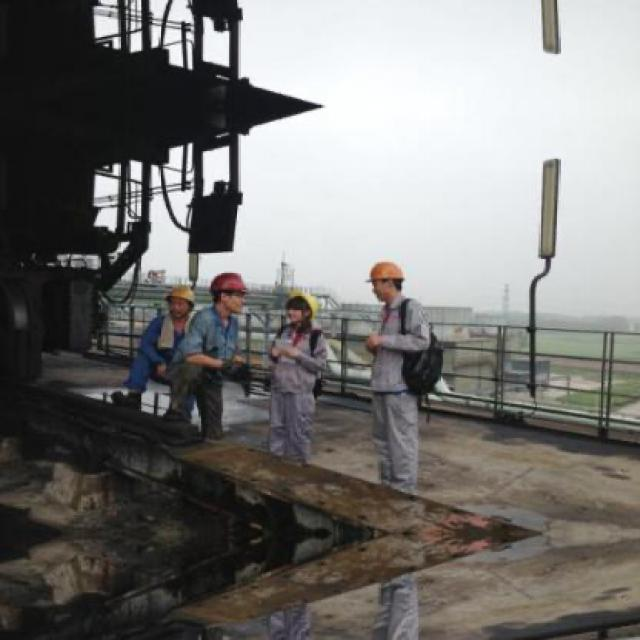helmet: (364, 256, 408, 307), (208, 270, 248, 314), (165, 284, 200, 322), (283, 290, 315, 330)
